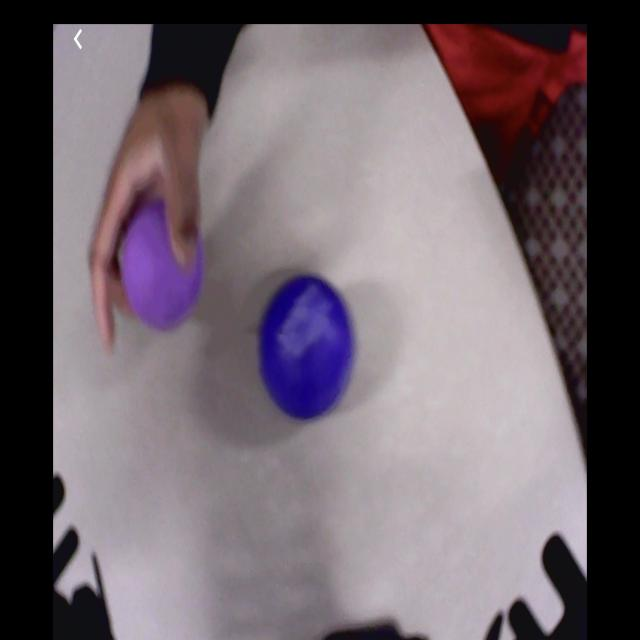ball: (259, 274, 355, 418), (122, 194, 202, 329)
